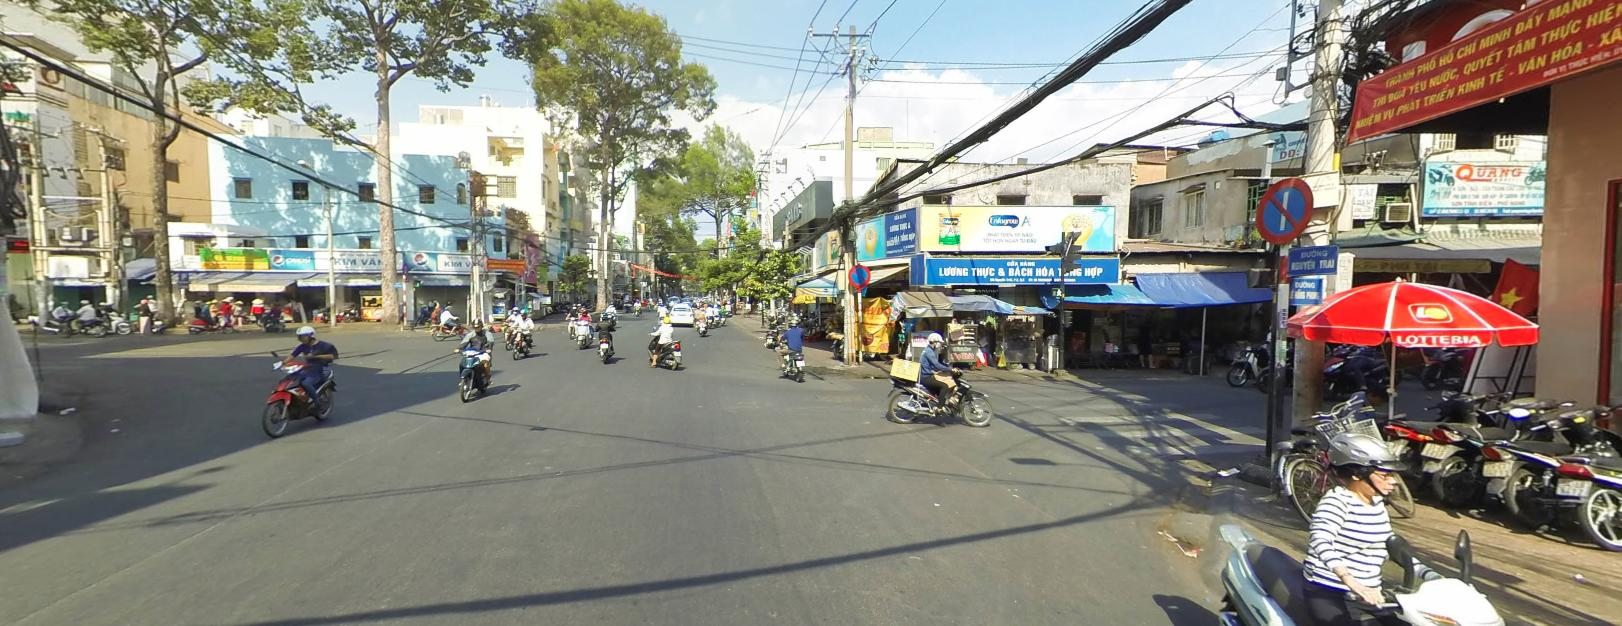Cam dung va do: (1256, 175, 1314, 241), (848, 262, 870, 284)
